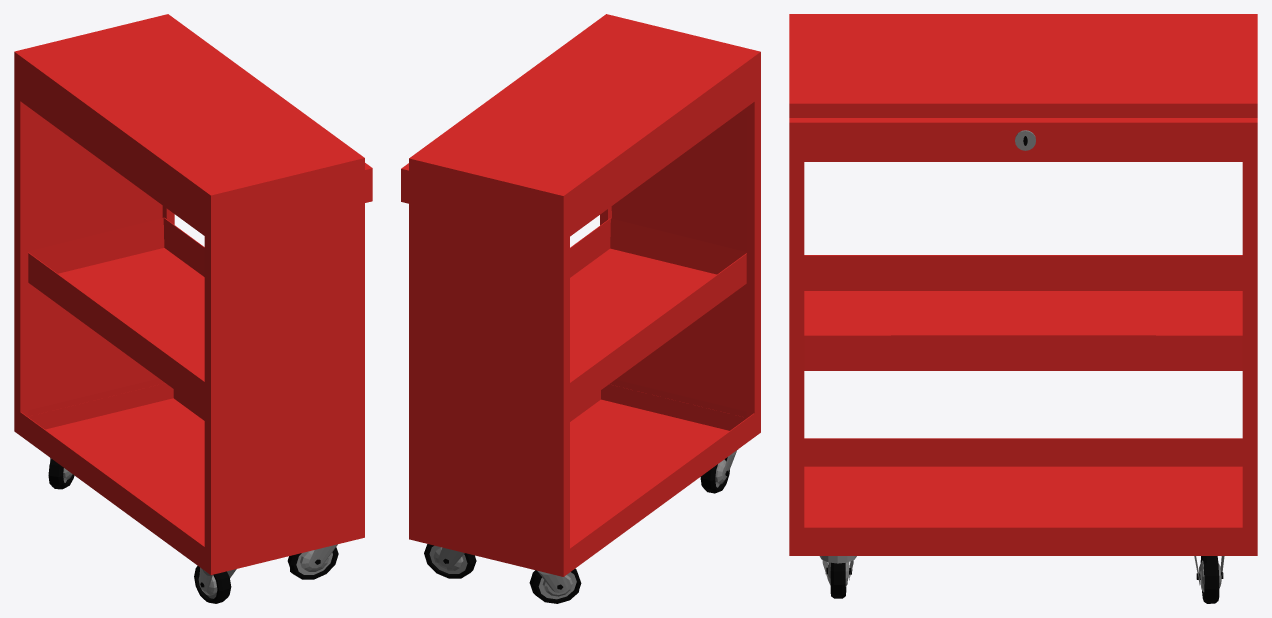
Rendered from Mesa taller.fbx.
The picture shows the model from 3 angles, left to right: view 1: azimuth 30°, elevation 25°; view 2: azimuth 150°, elevation 25°; view 3: azimuth 270°, elevation 25°; orthographic projection. The views are drawn at different scales.
Visible parts, largest first — view 1: Mesa taller; view 2: Mesa taller; view 3: Mesa taller.
Part boxes in pixels (box(x1,y1,x2,y2)): Mesa taller: box(14, 14, 372, 603); Mesa taller: box(401, 14, 760, 603); Mesa taller: box(789, 14, 1257, 603).
Bounding box in the file's own units: 36 × 90 × 75.
